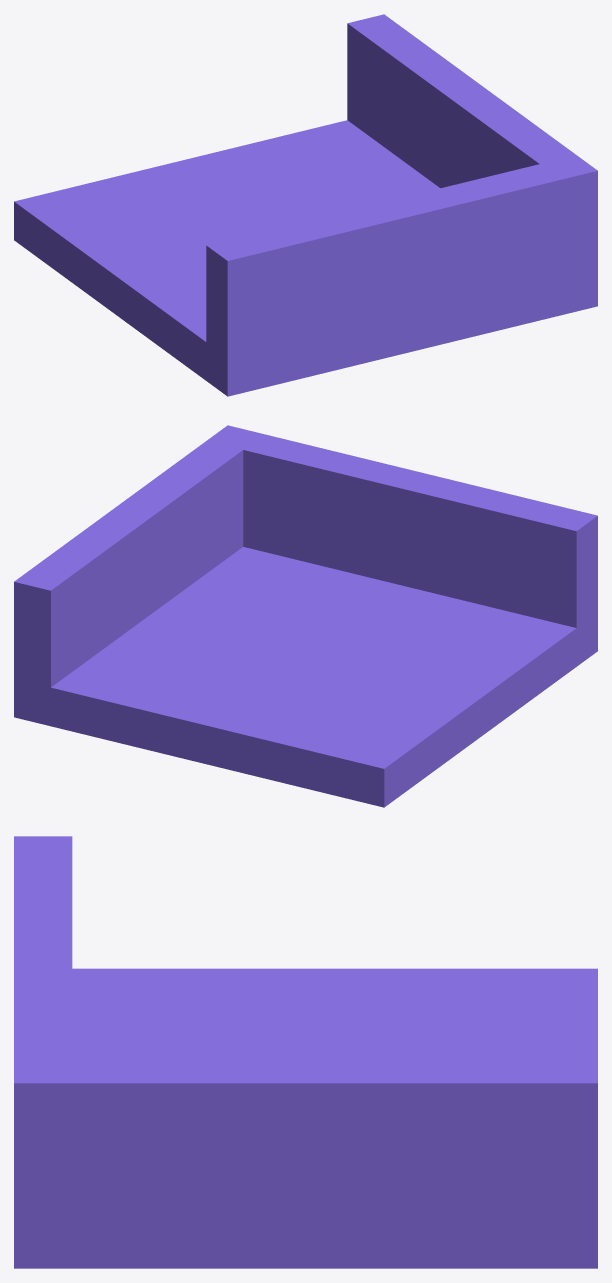
Rendered from PurpleRoof_Corner_Small.glb.
3 renders of one model, top to bottom at view 1: azimuth 30°, elevation 25°; view 2: azimuth 150°, elevation 25°; view 3: azimuth 270°, elevation 25°, orthographic. The views are drawn at different scales.
Parts seen in each view (by area): view 1: roof_flat_corner_small_pruple; view 2: roof_flat_corner_small_pruple; view 3: roof_flat_corner_small_pruple.
Part boxes in pixels (box(x1,y1,x2,y2)): roof_flat_corner_small_pruple: box(14, 14, 597, 396); roof_flat_corner_small_pruple: box(14, 425, 597, 807); roof_flat_corner_small_pruple: box(14, 836, 597, 1268).
Size of what is drawn, in the model's own units: 2 by 0.7 by 2.
1 material, 1 textured.
